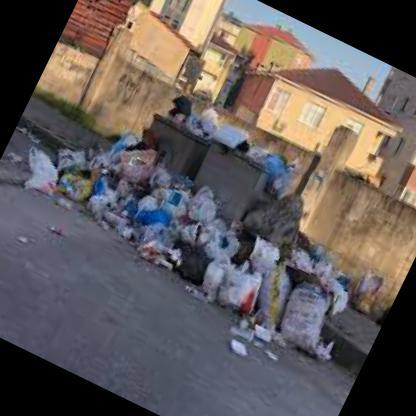Garbage: (11, 113, 185, 256), (112, 176, 262, 305), (221, 241, 349, 368), (162, 90, 305, 180), (240, 180, 314, 257)
